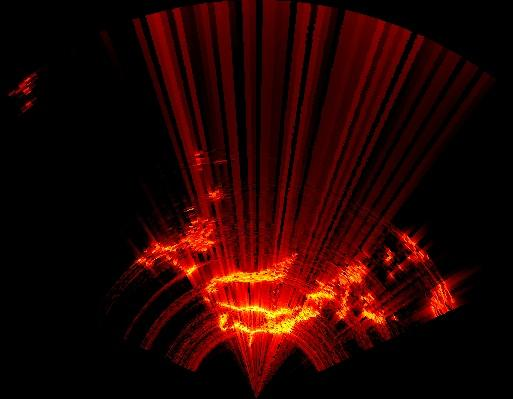shipwreck: (218, 262, 367, 344), (205, 254, 296, 293), (135, 221, 213, 266), (430, 281, 454, 315), (402, 235, 429, 260), (363, 294, 385, 323)
